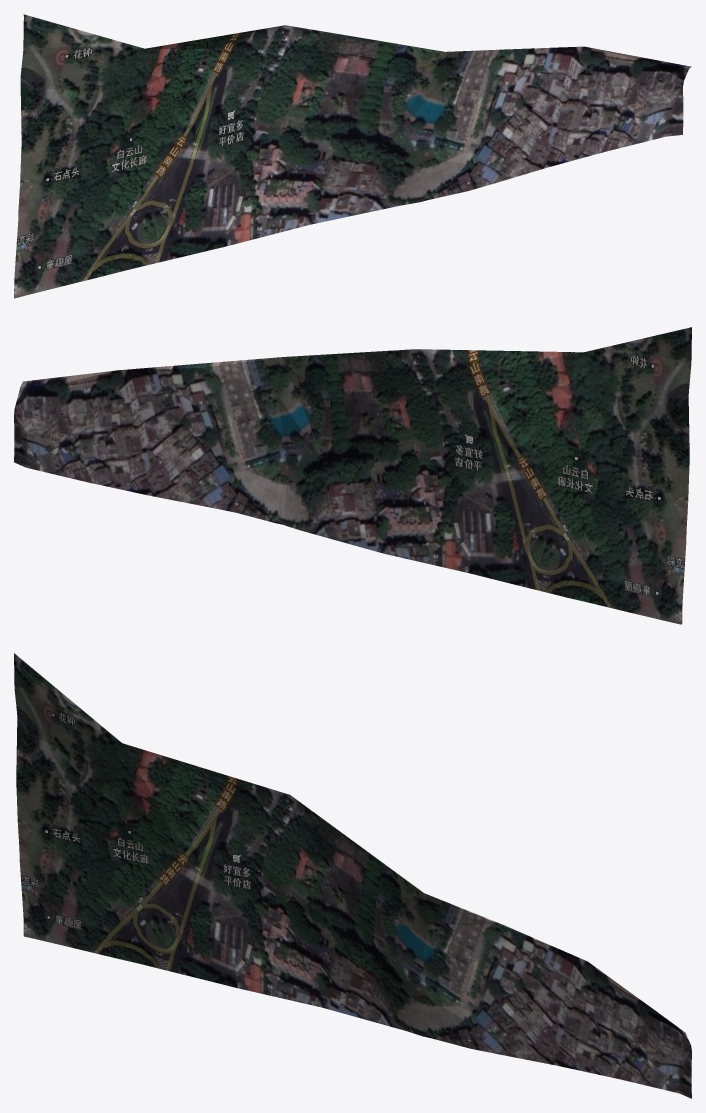
3 renders of one model, top to bottom at view 1: azimuth 30°, elevation 25°; view 2: azimuth 150°, elevation 25°; view 3: azimuth 330°, elevation 25°, orthographic.
Parts seen in each view (by area): view 1: 0_1_0_3_3_0; view 2: 0_1_0_3_3_0; view 3: 0_1_0_3_3_0.
Boxes of the visible parts, x1=… form: 0_1_0_3_3_0: x1=14, y1=14, x2=691, y2=298; 0_1_0_3_3_0: x1=14, y1=327, x2=691, y2=624; 0_1_0_3_3_0: x1=14, y1=653, x2=691, y2=1098.
Size of the model in its own units: 486 by 202 by 23.97.
1 material, 1 textured.
